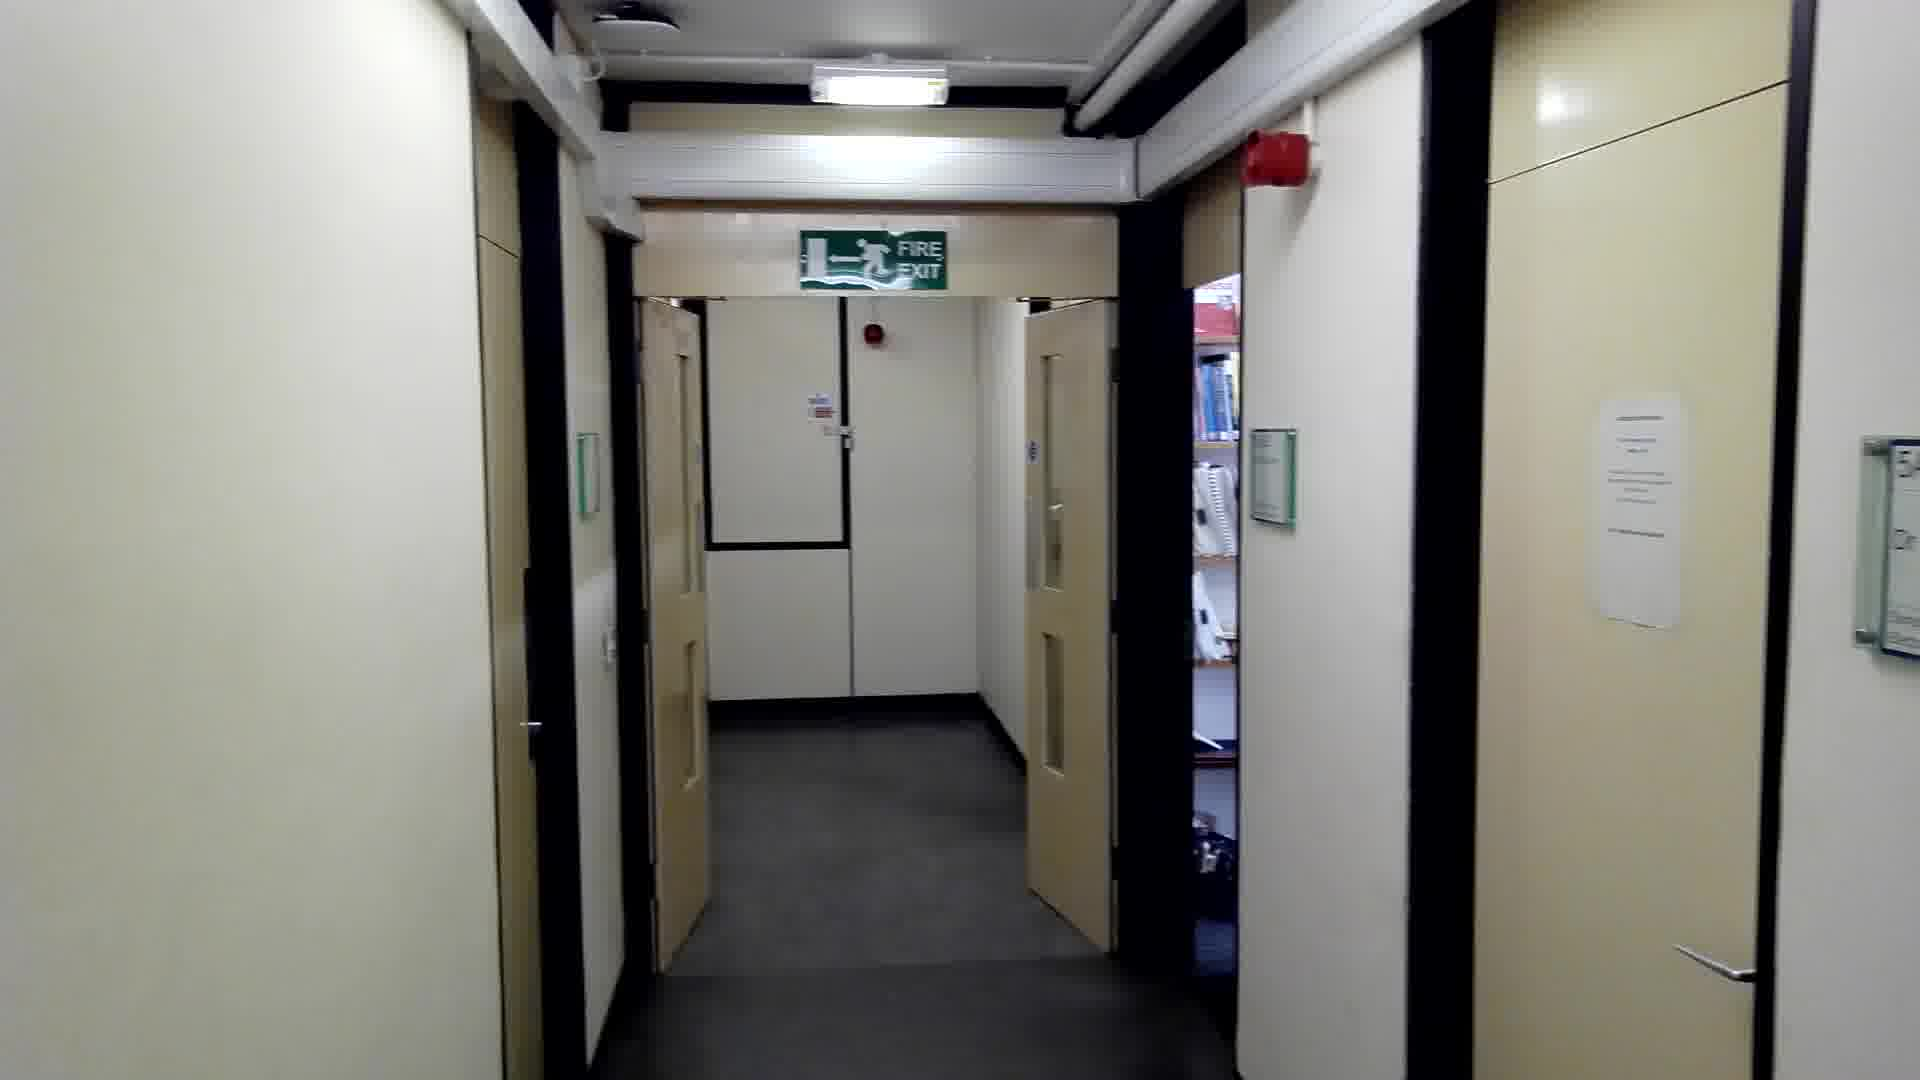Door: (1398, 79, 1793, 1080), (460, 229, 597, 1080), (597, 286, 736, 977), (1007, 294, 1130, 967)
